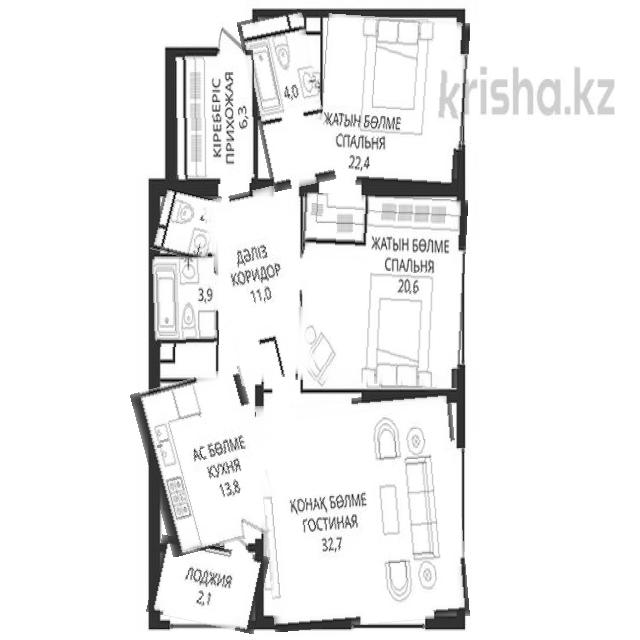balcony: (150, 540, 266, 629)
bathroom: (245, 12, 329, 190), (151, 256, 219, 346), (154, 187, 218, 260)
hallway: (210, 188, 306, 383), (172, 51, 255, 184)
kitchen: (140, 371, 274, 552)
living_room: (260, 393, 466, 628), (298, 194, 466, 386), (319, 16, 468, 189)
